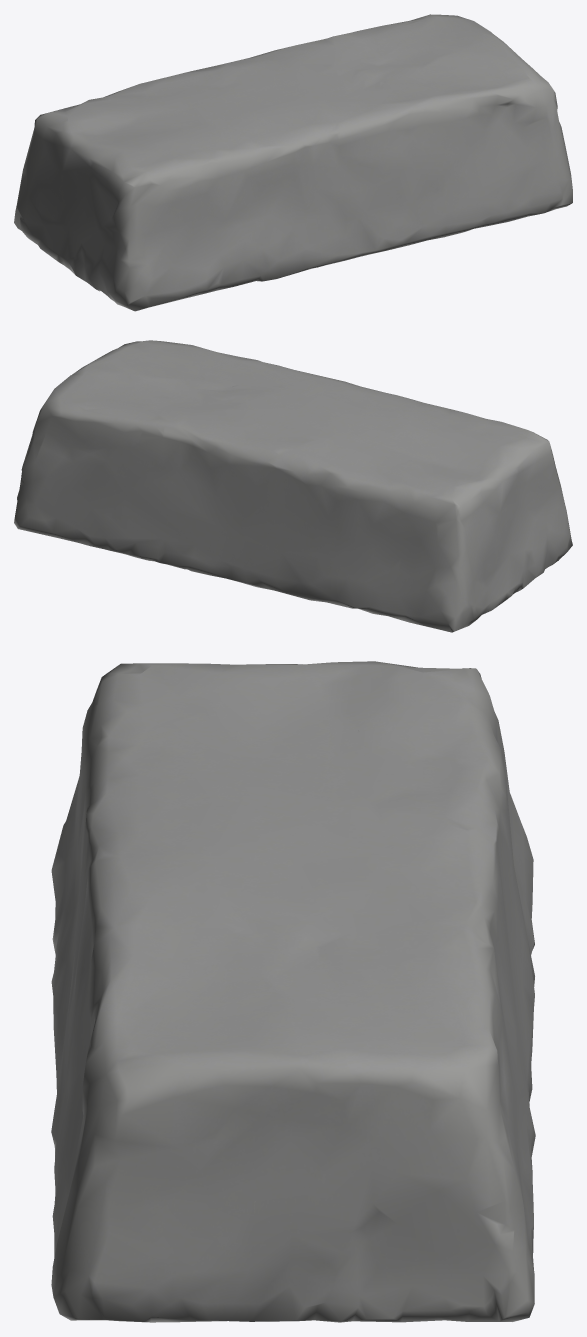
Rendered from item_bar.glb.
3 renders of one model, top to bottom at view 1: azimuth 30°, elevation 25°; view 2: azimuth 150°, elevation 25°; view 3: azimuth 270°, elevation 25°, orthographic. The views are drawn at different scales.
Parts seen in each view (by area): view 1: tripo_node_85d6c4b5-b7cc-4888-8bd2-dc7c278b6bdb; view 2: tripo_node_85d6c4b5-b7cc-4888-8bd2-dc7c278b6bdb; view 3: tripo_node_85d6c4b5-b7cc-4888-8bd2-dc7c278b6bdb.
Part boxes in pixels (x1,y1,x2,y2): tripo_node_85d6c4b5-b7cc-4888-8bd2-dc7c278b6bdb: (14,14,572,311); tripo_node_85d6c4b5-b7cc-4888-8bd2-dc7c278b6bdb: (14,340,572,632); tripo_node_85d6c4b5-b7cc-4888-8bd2-dc7c278b6bdb: (51,661,535,1322).
Size of the model in its own units: 1 by 0.2781 by 0.4645.
1 material, 1 textured.
